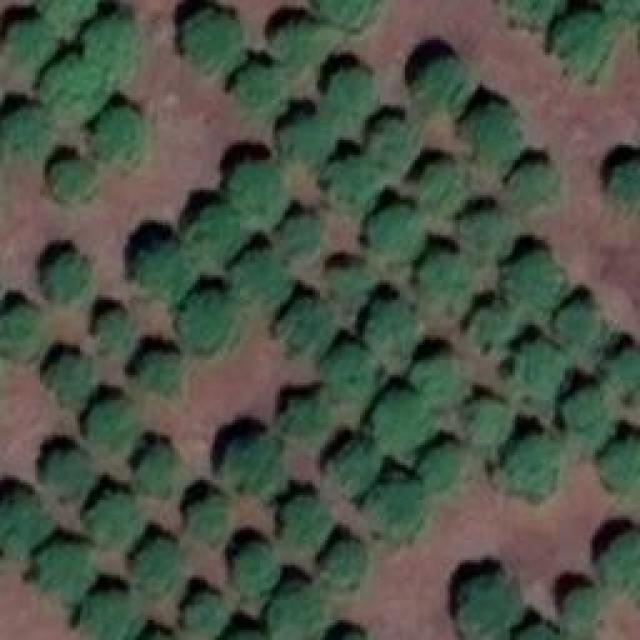Tree: (458, 575, 521, 638), (225, 435, 283, 498), (45, 57, 105, 115), (230, 160, 285, 223), (180, 293, 243, 348), (512, 342, 570, 400), (140, 242, 195, 300), (277, 300, 335, 355), (505, 253, 563, 308), (183, 13, 243, 66), (187, 208, 245, 261), (235, 253, 290, 306), (375, 395, 430, 448), (505, 438, 558, 493), (368, 480, 421, 535), (270, 585, 325, 638), (85, 20, 133, 80), (472, 105, 520, 165), (558, 18, 611, 71), (42, 542, 90, 600), (280, 115, 333, 165), (458, 208, 511, 258), (373, 208, 426, 258), (0, 495, 48, 550), (323, 347, 378, 395), (83, 592, 138, 640), (330, 70, 378, 123), (88, 400, 141, 448), (418, 60, 471, 108), (283, 495, 333, 545), (565, 388, 610, 443), (413, 357, 463, 405), (370, 300, 415, 353), (373, 120, 418, 170), (2, 110, 50, 155), (330, 160, 378, 205), (92, 495, 140, 540), (233, 545, 278, 593), (95, 110, 138, 158), (138, 542, 181, 590), (422, 253, 470, 296), (557, 305, 605, 348), (335, 445, 380, 490), (423, 165, 468, 210), (602, 535, 640, 588), (5, 23, 55, 63), (238, 70, 283, 113), (285, 393, 328, 438), (48, 252, 88, 300), (280, 23, 328, 63), (605, 440, 640, 493), (565, 587, 600, 640), (423, 445, 466, 488), (0, 307, 38, 355), (188, 495, 228, 540), (280, 215, 320, 258), (45, 452, 90, 490), (323, 0, 378, 30), (327, 543, 365, 586), (470, 403, 510, 443), (40, 0, 93, 30), (143, 447, 176, 495), (473, 308, 518, 343), (53, 160, 93, 198), (140, 355, 178, 395), (53, 358, 88, 401), (98, 310, 133, 353), (185, 595, 228, 630), (325, 268, 373, 298), (513, 165, 553, 200), (507, 0, 562, 22), (610, 350, 640, 390), (612, 163, 640, 203)
